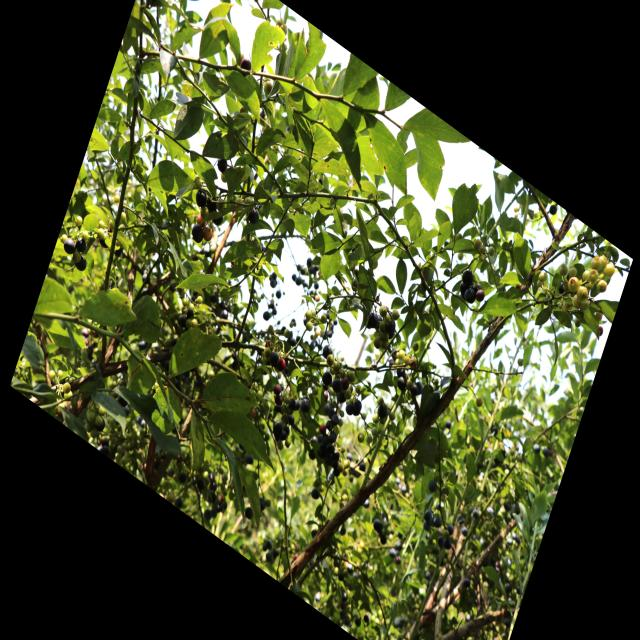blueberry: (245, 200, 263, 228), (188, 221, 206, 246), (210, 206, 227, 232), (72, 251, 90, 275), (214, 151, 230, 176), (194, 185, 209, 209), (205, 190, 220, 214), (61, 234, 77, 256), (272, 417, 286, 438), (320, 368, 334, 388), (320, 340, 334, 360), (298, 395, 312, 415), (73, 236, 88, 254), (331, 375, 344, 395), (351, 396, 364, 415), (344, 400, 356, 418), (269, 351, 280, 368)
blueberry-unripe: (377, 302, 389, 320), (372, 332, 384, 350), (326, 352, 336, 368), (346, 368, 356, 384), (390, 308, 400, 322), (380, 330, 390, 343), (74, 214, 84, 227), (80, 228, 90, 241), (96, 227, 106, 240), (319, 312, 328, 326), (383, 312, 392, 326), (378, 319, 387, 333), (304, 308, 313, 321), (305, 319, 314, 332), (354, 383, 363, 396), (344, 387, 352, 400), (332, 359, 340, 371), (120, 210, 128, 222)
